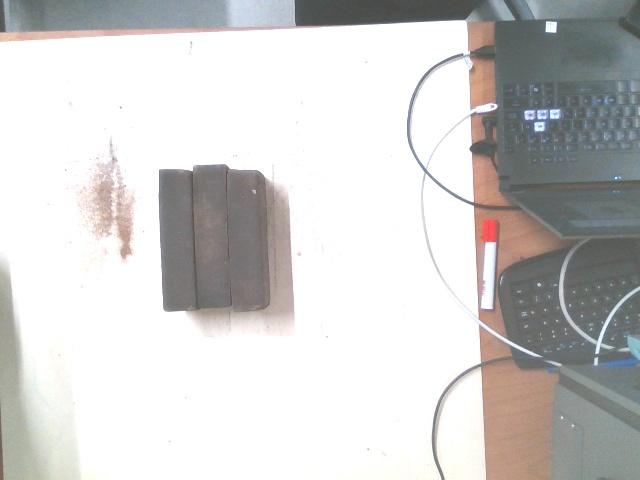brick-side: (225, 170, 262, 311), (192, 164, 228, 306), (157, 169, 193, 310)
